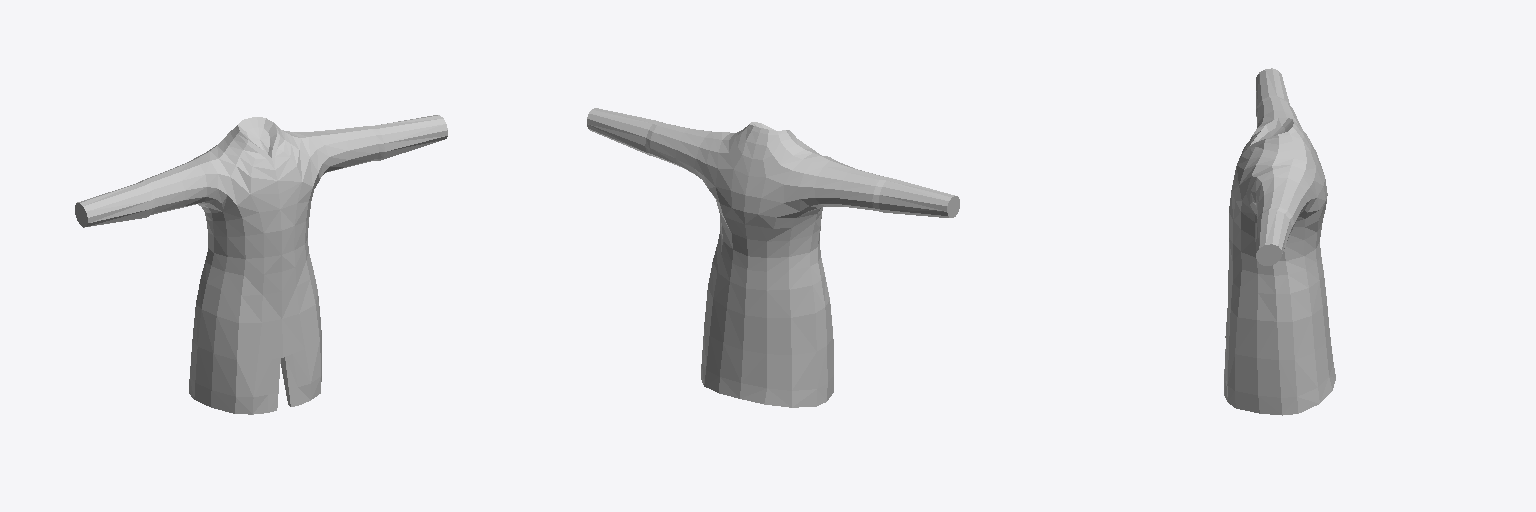
Rendered from Tier1_body_base.obj.
3 views of the same model, side by side, from view 1: azimuth 30°, elevation 25°; view 2: azimuth 150°, elevation 25°; view 3: azimuth 270°, elevation 25° (orthographic).
Parts seen in each view (by area): view 1: Tier1_tunic_low.001_Tunic-003.001; view 2: Tier1_tunic_low.001_Tunic-003.001; view 3: Tier1_tunic_low.001_Tunic-003.001.
Part boxes in pixels (x1,y1,x2,y2): Tier1_tunic_low.001_Tunic-003.001: (75, 115, 447, 414); Tier1_tunic_low.001_Tunic-003.001: (587, 108, 959, 407); Tier1_tunic_low.001_Tunic-003.001: (1224, 68, 1335, 415).
Size of the model in its own units: 1.5 by 1.06 by 0.4062.